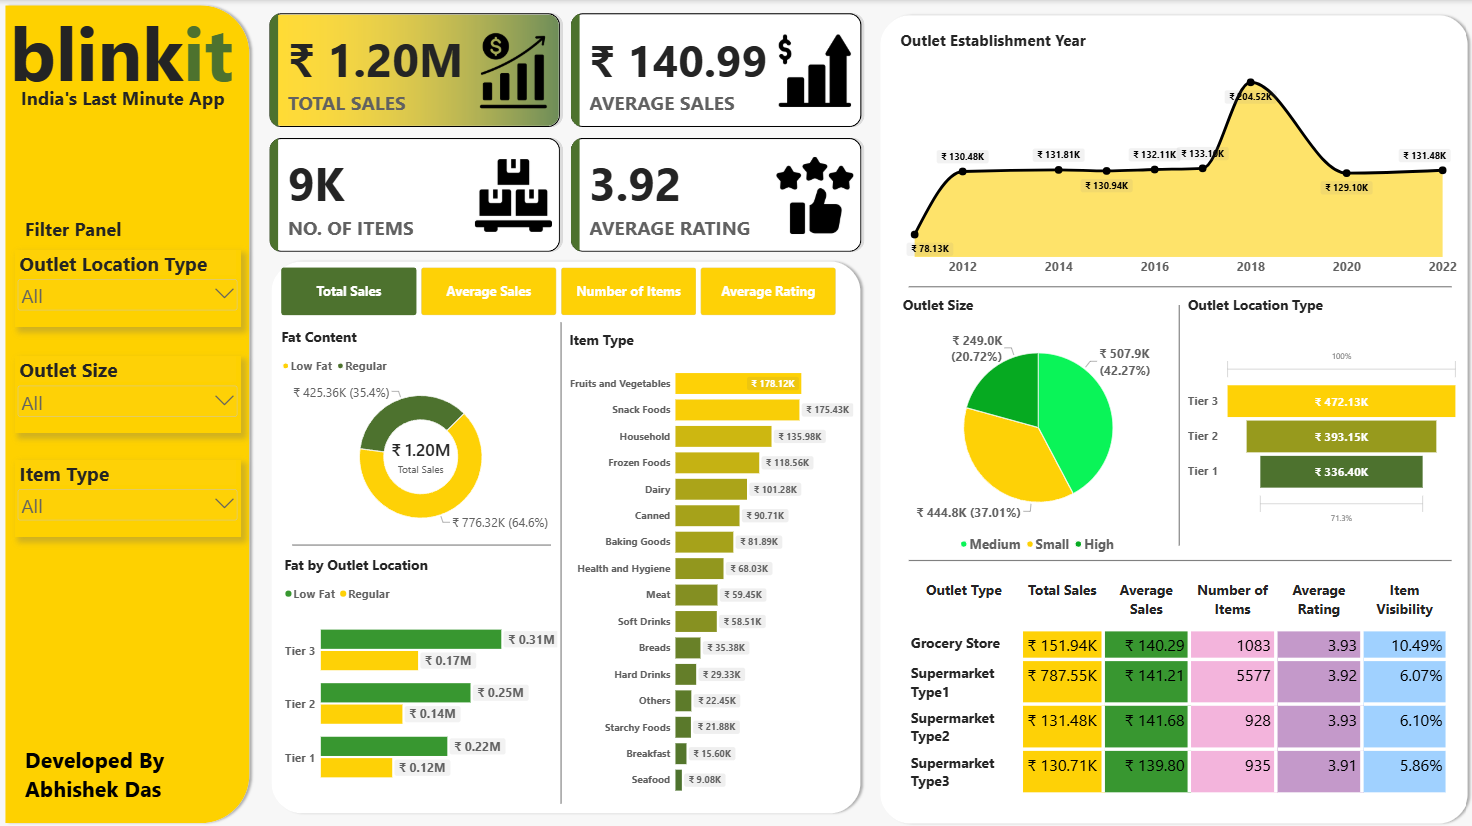

This screenshot's page, from the dashboard's own definition file:
{"tool":"powerbi","page":{"name":"BlinkIt Dashboard","canvas":[2560,1440],"ordinal":0},"visuals":[{"type":"shape","box":[0,0,442.5,1440],"z":0},{"type":"textbox","box":[16.7,0,401.3,193.5],"z":1000},{"type":"textbox","box":[17.5,147.5,392.5,45],"z":2000},{"type":"cardVisual","fields":{"Data":["KPIs.Total Sales","KPIs.Average Sales","KPIs.Number of Items","KPIs.Average Rating"]},"box":[463.4,16.7,1041.5,427.6],"z":3000},{"type":"shape","box":[463.4,444.3,1041.5,977],"z":4000},{"type":"shape","box":[1520.8,17.4,1040.7,1423.1],"z":5000},{"type":"donutChart","title":"Fat Content","fields":{"Category":["BlinkIT Grocery Data.Item Fat Content"],"Y":["KPIs.Total Sales"]},"box":[489.7,568.5,484.9,365.5],"z":6000},{"type":"advancedSlicerVisual","fields":{"Values":["Matrix.Matrix"]},"box":[489.7,465.8,967.5,83.6],"z":7000},{"type":"clusteredBarChart","title":"Fat by Outlet Location","fields":{"Category":["BlinkIT Grocery Data.Outlet Location Type"],"Series":["BlinkIT Grocery Data.Item Fat Content"],"Y":["KPIs.Total Sales"]},"box":[489.7,960.3,484.9,437.2],"z":8000},{"type":"shape","box":[1579,489.7,943.6,19.1],"z":9000},{"type":"shape","box":[508.8,934,449.1,26.3],"z":10000},{"type":"shape","box":[967.5,561.4,16.7,836.1],"z":11000},{"type":"barChart","title":"Item Type","fields":{"Category":["BlinkIT Grocery Data.Item Type"],"Y":["KPIs.Total Sales"]},"box":[984.2,568.5,504.1,828.9],"z":12000},{"type":"areaChart","title":"Outlet Establishment Year","fields":{"Category":["BlinkIT Grocery Data.Outlet Establishment Year"],"Y":["KPIs.Total Sales"]},"box":[1559.9,45.6,977.7,443.2],"z":13000},{"type":"shape","box":[1579,965.1,943.6,19.1],"z":14000},{"type":"shape","box":[2040.1,530.3,19.1,418.1],"z":15000},{"type":"pieChart","title":"Outlet Size","fields":{"Category":["BlinkIT Grocery Data.Outlet Size"],"Y":["KPIs.Total Sales"]},"box":[1562.3,513.6,477.8,451.5],"z":15001},{"type":"funnel","title":"Outlet Location Type","fields":{"Category":["BlinkIT Grocery Data.Outlet Location Type"],"Y":["KPIs.Total Sales"]},"box":[2059.2,508.8,480.2,451.5],"z":15002},{"type":"pivotTable","fields":{"Rows":["BlinkIT Grocery Data.Outlet Type"],"Values":["KPIs.Total Sales","KPIs.Average Sales","KPIs.Number of Items","KPIs.Average Rating","Avg(BlinkIT Grocery Data.Item Visibility)"]},"box":[1562.3,991.4,977,406.1],"z":15003},{"type":"slicer","fields":{"Values":["BlinkIT Grocery Data.Outlet Location Type"]},"box":[26.3,434.8,391.8,133.8],"z":15004},{"type":"slicer","fields":{"Values":["BlinkIT Grocery Data.Outlet Size"]},"box":[26.3,618.7,391.8,133.8],"z":15005},{"type":"slicer","fields":{"Values":["BlinkIT Grocery Data.Item Type"]},"box":[26.3,800.3,391.8,133.8],"z":15006},{"type":"textbox","box":[43,1294.8,355.9,102.7],"z":15007},{"type":"textbox","box":[43,375.1,207.8,59.7],"z":15008}]}

Visuals, with their boxes in screenshot pixels (x1, y1, x2, y2), scaled from the page's 2560x1440 canvas onto the 1472x826 screenshot:
shape: {"left": 0, "top": 0, "right": 254, "bottom": 825}
textbox: {"left": 10, "top": 0, "right": 240, "bottom": 111}
textbox: {"left": 10, "top": 85, "right": 236, "bottom": 110}
cardVisual - KPIs.Total Sales x KPIs.Average Sales: {"left": 266, "top": 10, "right": 865, "bottom": 255}
shape: {"left": 266, "top": 255, "right": 865, "bottom": 815}
shape: {"left": 874, "top": 10, "right": 1471, "bottom": 825}
"Fat Content" donutChart: {"left": 282, "top": 326, "right": 560, "bottom": 536}
advancedSlicerVisual - Matrix.Matrix: {"left": 282, "top": 267, "right": 838, "bottom": 315}
"Fat by Outlet Location" clusteredBarChart: {"left": 282, "top": 551, "right": 560, "bottom": 802}
shape: {"left": 908, "top": 281, "right": 1450, "bottom": 292}
shape: {"left": 293, "top": 536, "right": 551, "bottom": 551}
shape: {"left": 556, "top": 322, "right": 566, "bottom": 802}
"Item Type" barChart: {"left": 566, "top": 326, "right": 856, "bottom": 802}
"Outlet Establishment Year" areaChart: {"left": 897, "top": 26, "right": 1459, "bottom": 280}
shape: {"left": 908, "top": 554, "right": 1450, "bottom": 565}
shape: {"left": 1173, "top": 304, "right": 1184, "bottom": 544}
"Outlet Size" pieChart: {"left": 898, "top": 295, "right": 1173, "bottom": 554}
"Outlet Location Type" funnel: {"left": 1184, "top": 292, "right": 1460, "bottom": 551}
pivotTable - BlinkIT Grocery Data.Outlet Type x KPIs.Total Sales: {"left": 898, "top": 569, "right": 1460, "bottom": 802}
slicer - BlinkIT Grocery Data.Outlet Location Type: {"left": 15, "top": 249, "right": 240, "bottom": 326}
slicer - BlinkIT Grocery Data.Outlet Size: {"left": 15, "top": 355, "right": 240, "bottom": 432}
slicer - BlinkIT Grocery Data.Item Type: {"left": 15, "top": 459, "right": 240, "bottom": 536}
textbox: {"left": 25, "top": 743, "right": 229, "bottom": 802}
textbox: {"left": 25, "top": 215, "right": 144, "bottom": 249}
